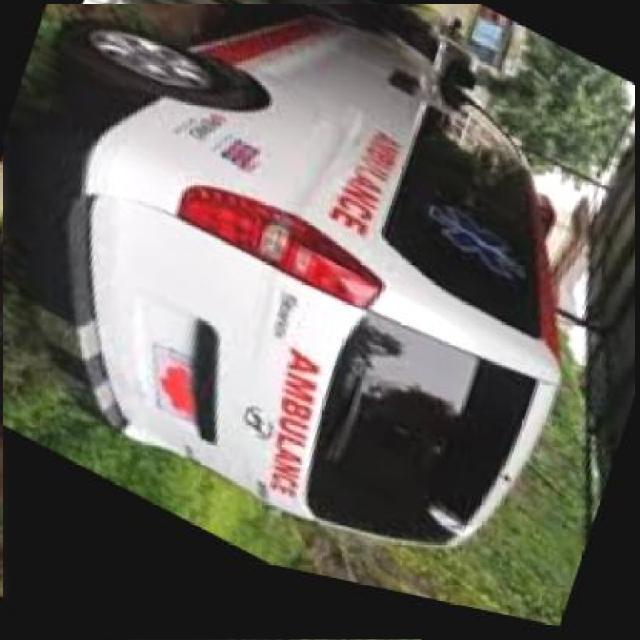emergency-vehicle: (1, 5, 636, 640)
